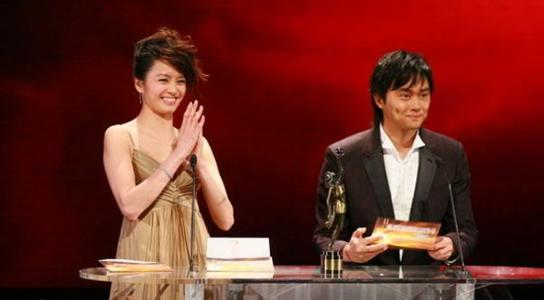person: (105, 29, 234, 300)
